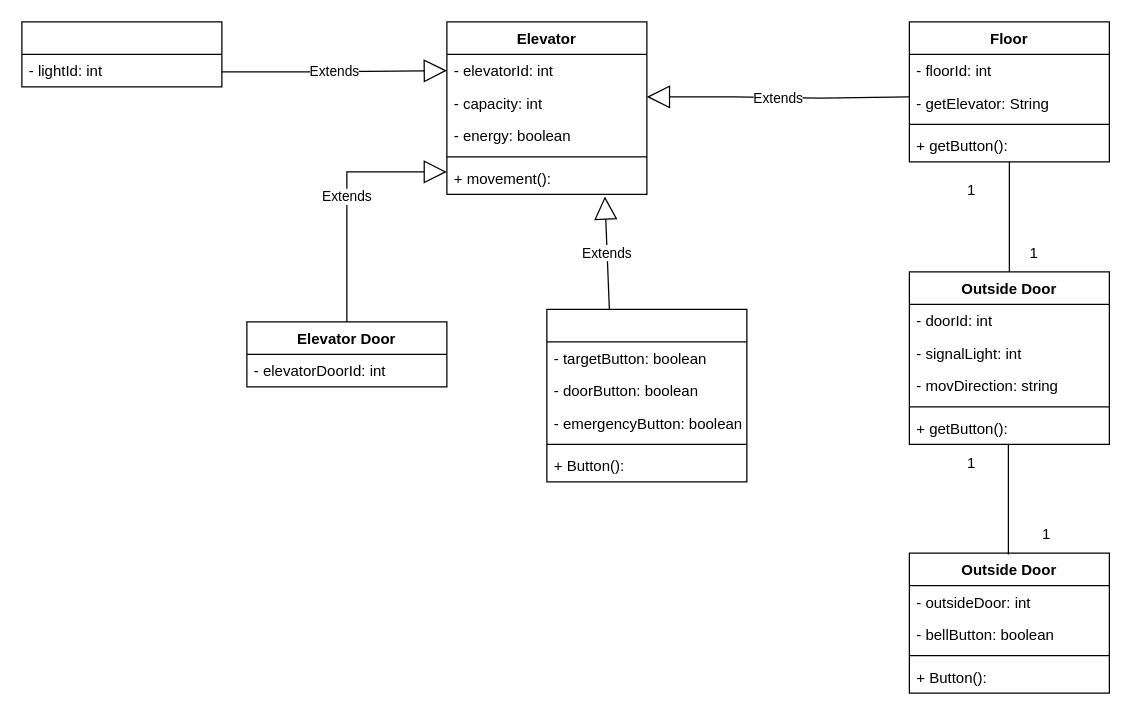
This 1131x719 diagram has some shape labels left out. Each missing label, with the box of its shape:
Control Panel: (546, 308, 747, 482)
Floor Indicator Light: (21, 21, 222, 87)
